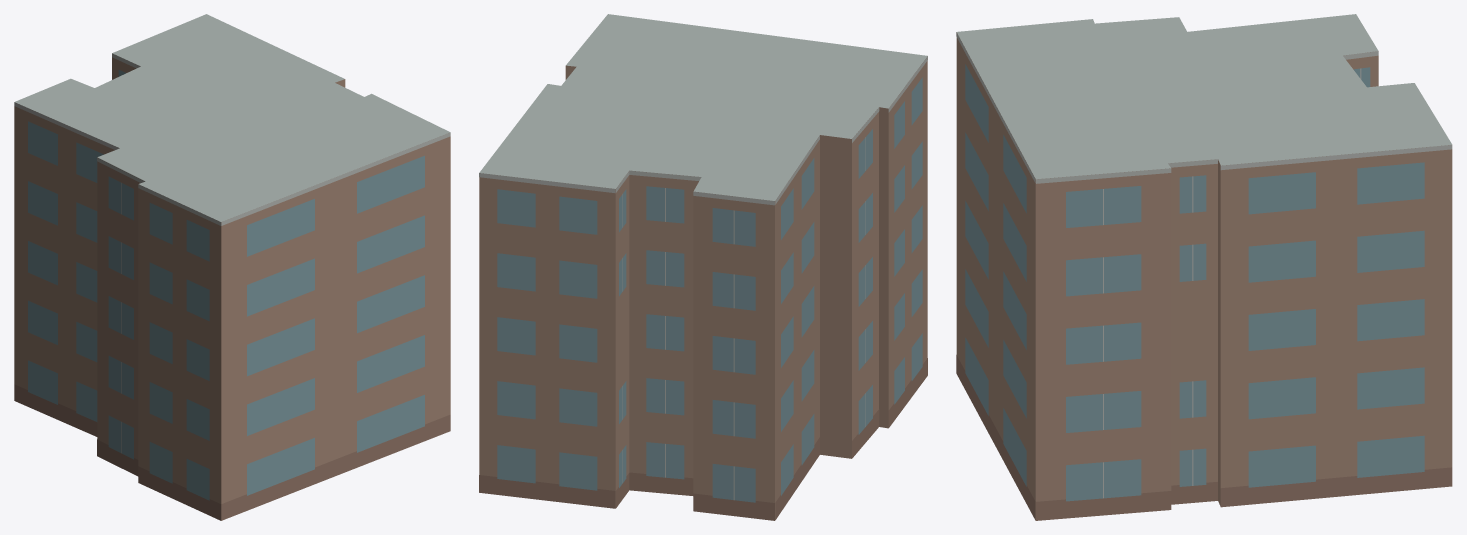
Rendered from survey-upis-32941399.glb.
3 renders of one model, left to right at view 1: azimuth 30°, elevation 25°; view 2: azimuth 150°, elevation 25°; view 3: azimuth 270°, elevation 25°, orthographic. The views are drawn at different scales.
Parts seen in each view (by area): view 1: survey-upis-32941399.tmp; view 2: survey-upis-32941399.tmp; view 3: survey-upis-32941399.tmp.
Boxes of the visible parts, bbox=[...] form: survey-upis-32941399.tmp: bbox=[14, 14, 450, 520]; survey-upis-32941399.tmp: bbox=[479, 14, 927, 520]; survey-upis-32941399.tmp: bbox=[956, 14, 1452, 520].
Size of the model in its own units: 18.79 by 18.1 by 23.82.
